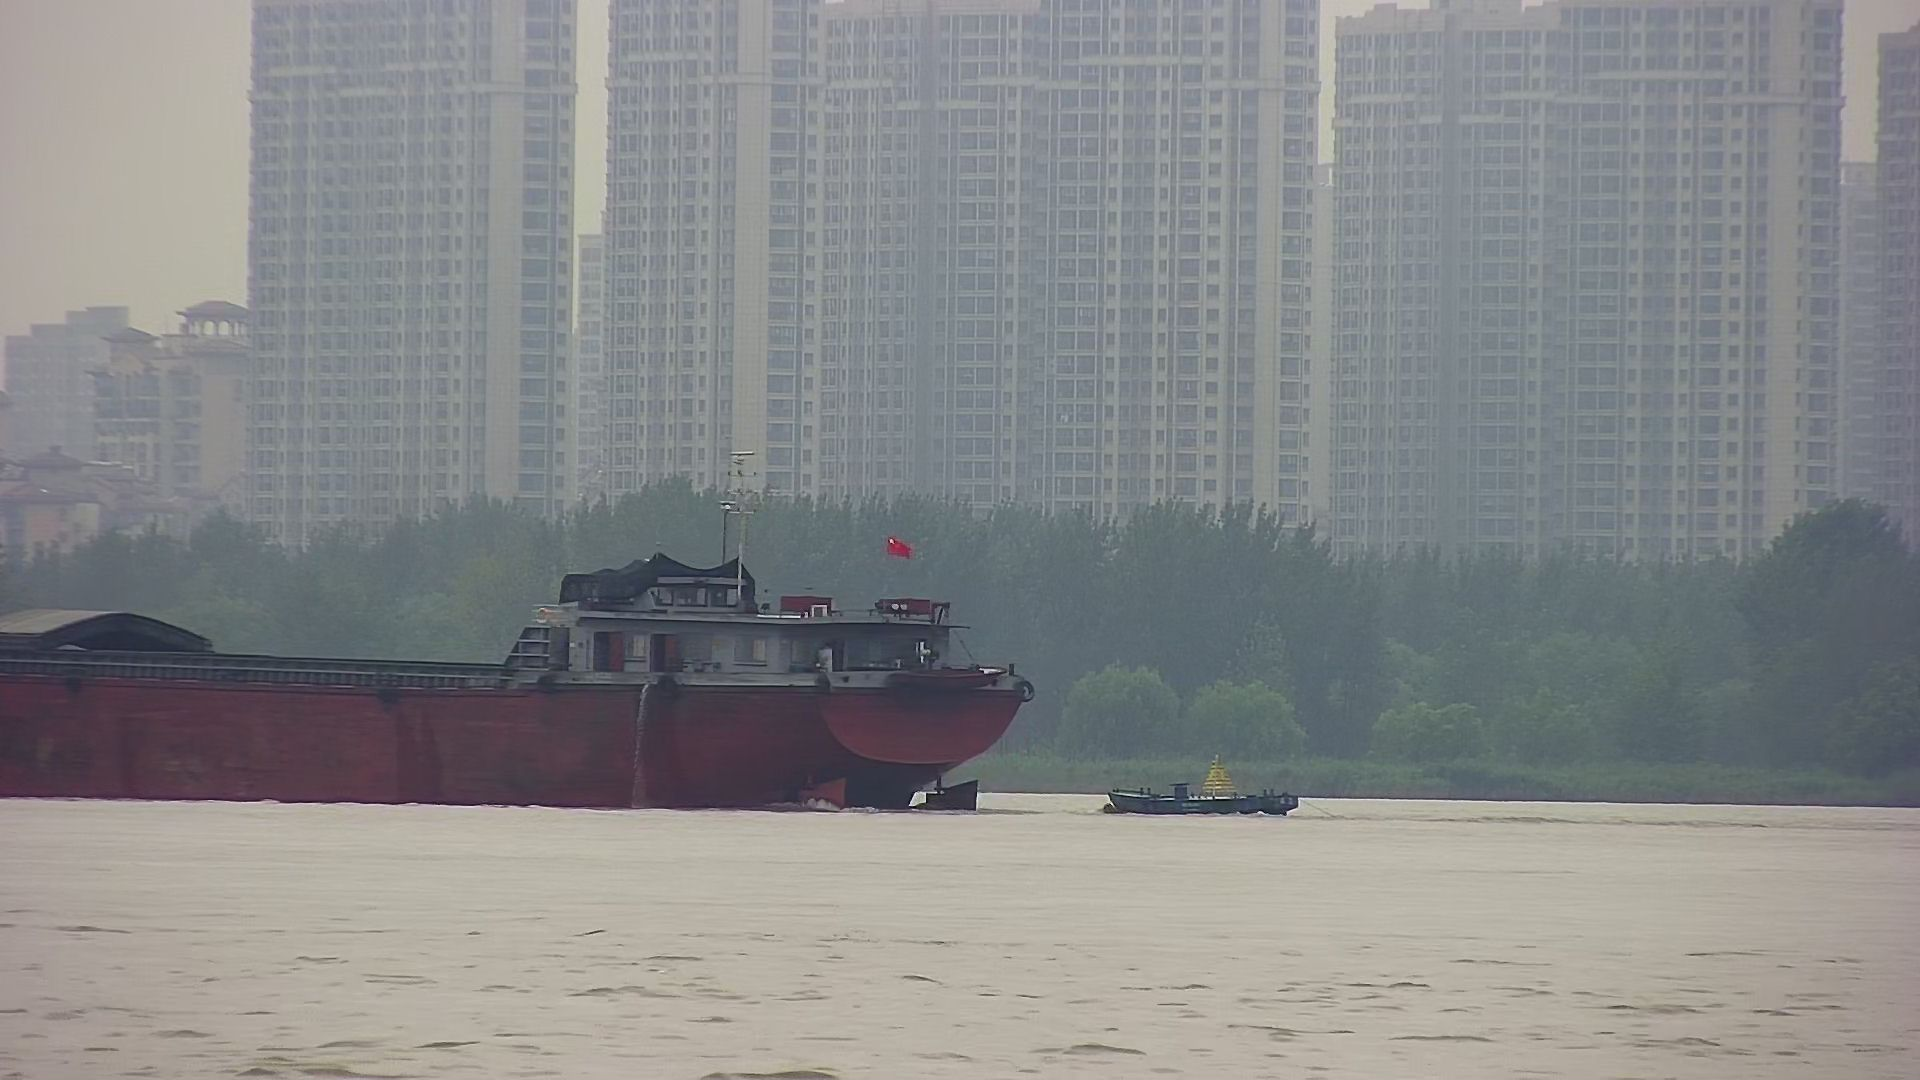boat: (1102, 754, 1302, 822)
ship: (1, 502, 1036, 818)
